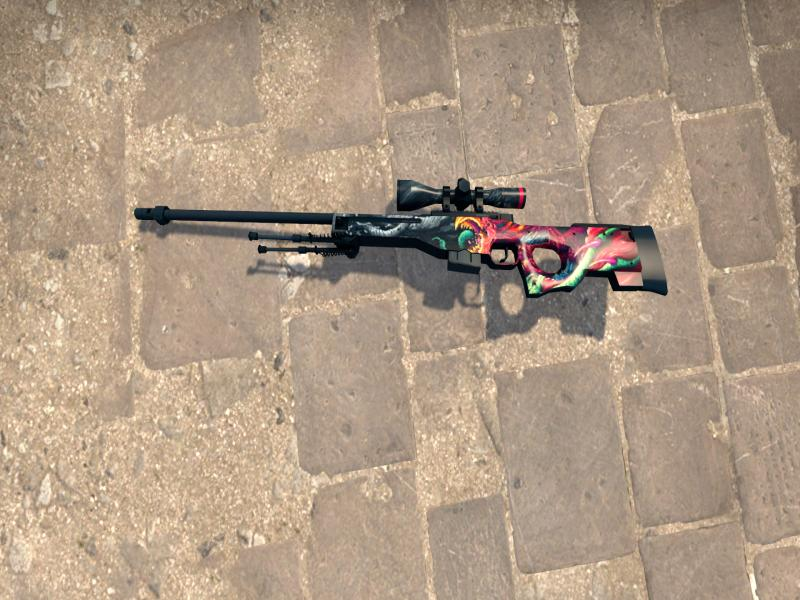AWP: (133, 178, 669, 297)
